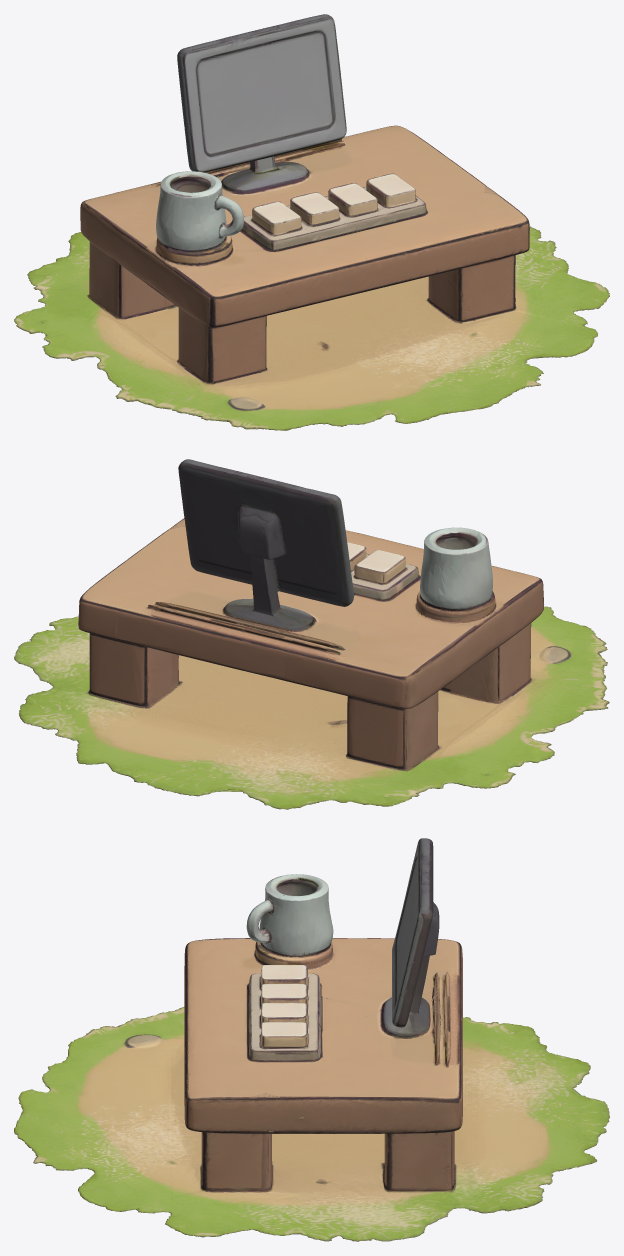
The model's file is low-monitor-raised-four-key-workstation-meshy6-web-v1.glb.
3 renders of one model, top to bottom at view 1: azimuth 30°, elevation 25°; view 2: azimuth 150°, elevation 25°; view 3: azimuth 270°, elevation 25°, orthographic. The views are drawn at different scales.
Bounding box in the file's own units: 1.87 × 0.8565 × 1.9.
Materials: 1 (1 with a texture image).
